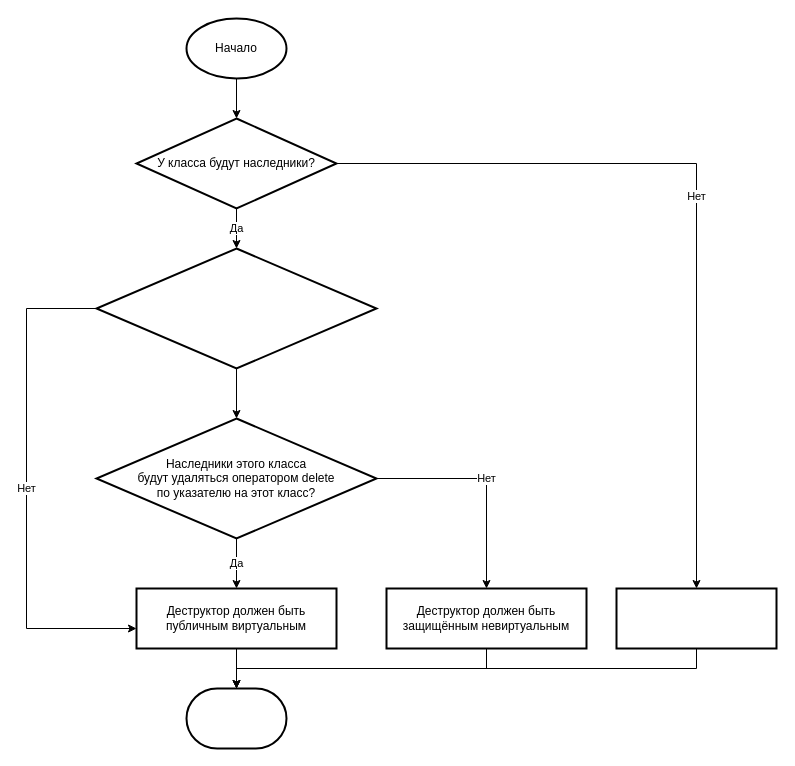
The diagram is 795 pixels wide and 766 high, and some of its shapes have lost their labels. Here are the shapes that lost their labels. From the top down, the centre of each, then its label:
At [236,308]: "Этот класс абстрактный?".
At [696,618]: "Деструктор должен быть публичным невиртуальным или вообще не написан".
At [236,718]: "Конец".
